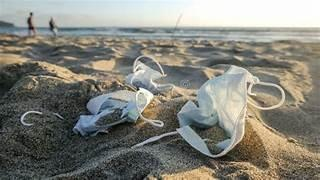Mask: (135, 66, 284, 157), (73, 88, 162, 135), (125, 55, 173, 92)
